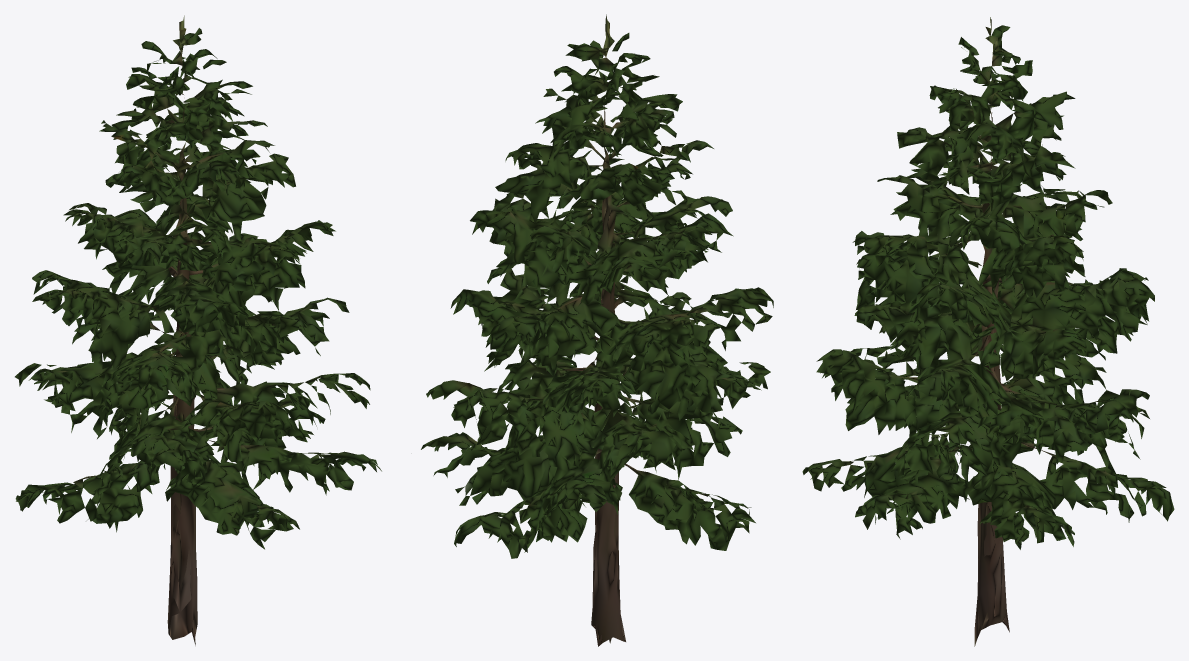
File: cedar_b.1.glb
3 views of the same model, side by side, from view 1: azimuth 30°, elevation 25°; view 2: azimuth 150°, elevation 25°; view 3: azimuth 270°, elevation 25° (orthographic).
Parts seen in each view (by area): view 1: lod; view 2: lod; view 3: lod.
Boxes of the visible parts, bbox=[...] form: lod: bbox=[15, 15, 381, 645]; lod: bbox=[421, 14, 773, 646]; lod: bbox=[802, 17, 1174, 646].
Size of the model in its own units: 0.5087 by 0.9785 by 0.5227.
